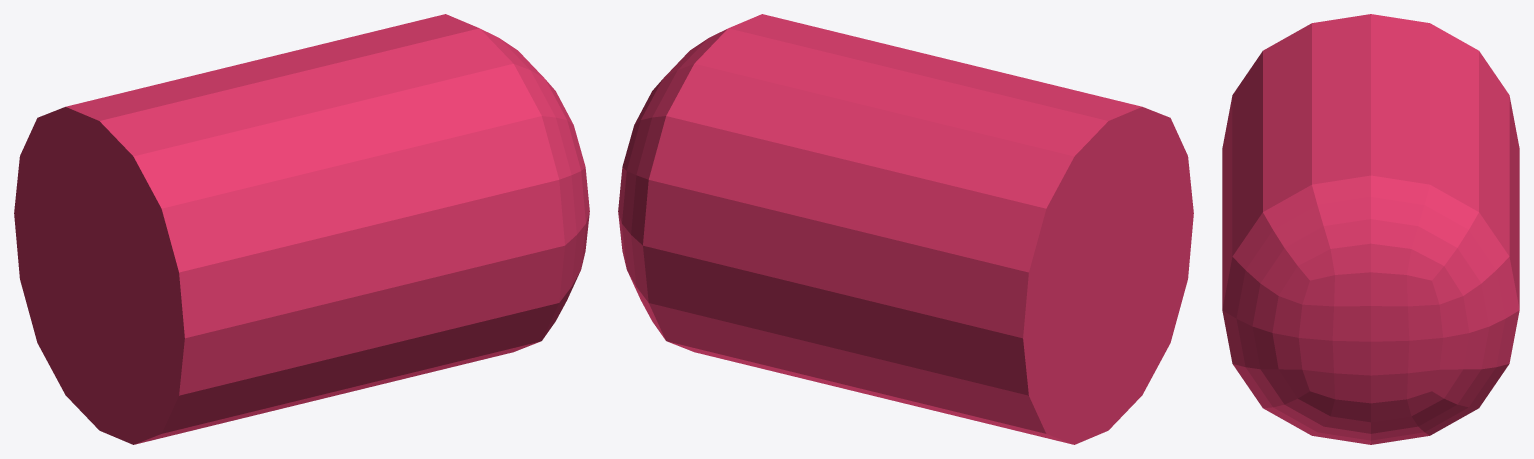
File: bullet.gltf
3 renders of one model, left to right at view 1: azimuth 30°, elevation 25°; view 2: azimuth 150°, elevation 25°; view 3: azimuth 270°, elevation 25°, orthographic. The views are drawn at different scales.
Parts seen in each view (by area): view 1: Cube; view 2: Cube; view 3: Cube.
Boxes of the visible parts, x1,y1,x2,y2 form: Cube: (14, 14, 589, 444); Cube: (618, 14, 1193, 444); Cube: (1222, 14, 1519, 444).
Size of the model in its own units: 1.58 by 1.03 by 1.03.
